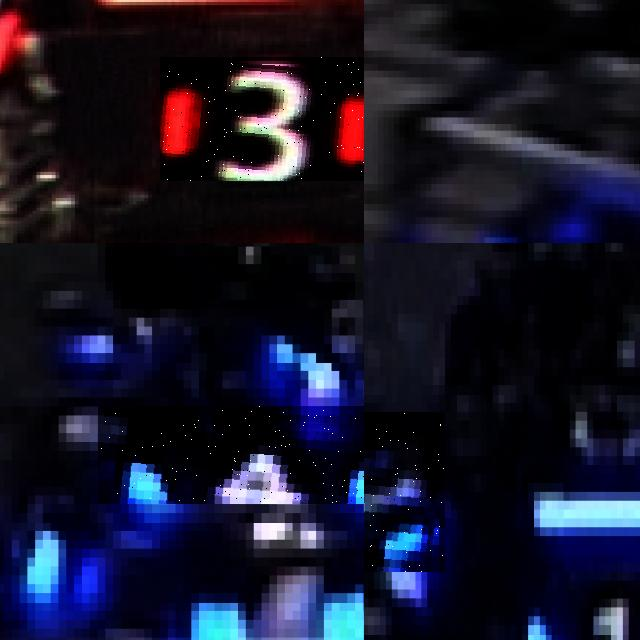B1: (364, 412, 444, 572), (516, 572, 640, 640)
B4: (97, 406, 364, 504), (167, 531, 364, 640)
R3: (159, 57, 364, 181)
